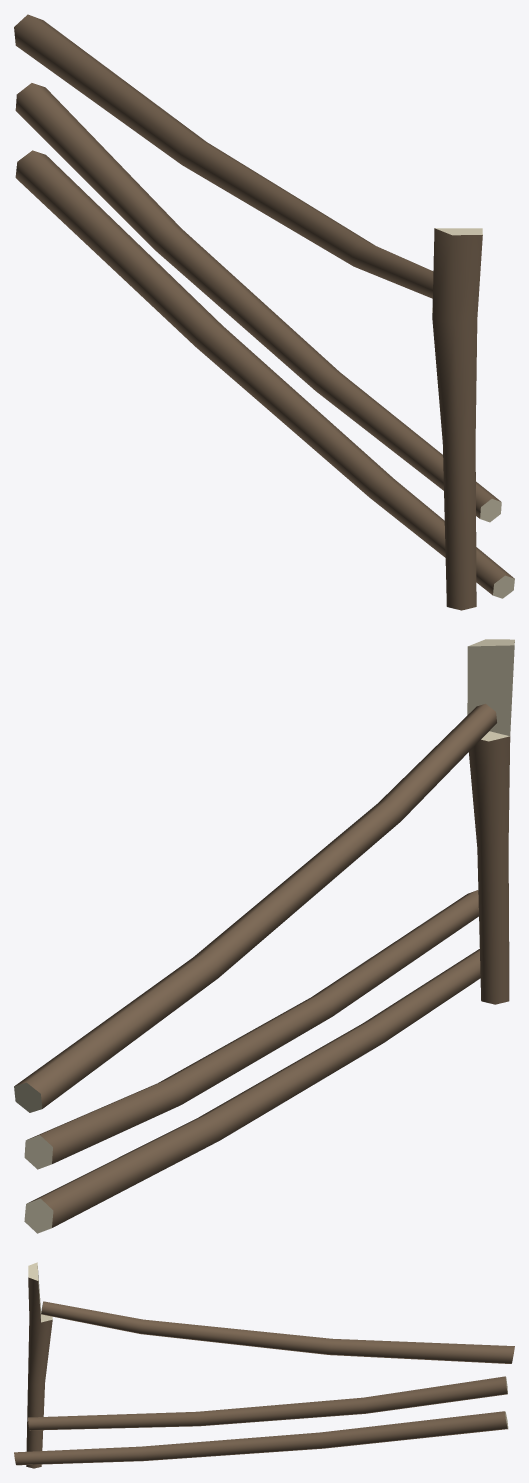
Rendered from P_Fence_04_LD.fbx.
3 renders of one model, top to bottom at view 1: azimuth 30°, elevation 25°; view 2: azimuth 150°, elevation 25°; view 3: azimuth 270°, elevation 25°, orthographic. The views are drawn at different scales.
Visible parts, largest first — view 1: P_Fence_04; view 2: P_Fence_04; view 3: P_Fence_04.
Boxes of the visible parts, x1,y1,x2,y2 form: P_Fence_04: [14, 14, 514, 610]; P_Fence_04: [14, 639, 514, 1233]; P_Fence_04: [14, 1262, 514, 1468].
Bounding box in the file's own units: 25.59 × 137 × 317.
1 material, 1 textured.
